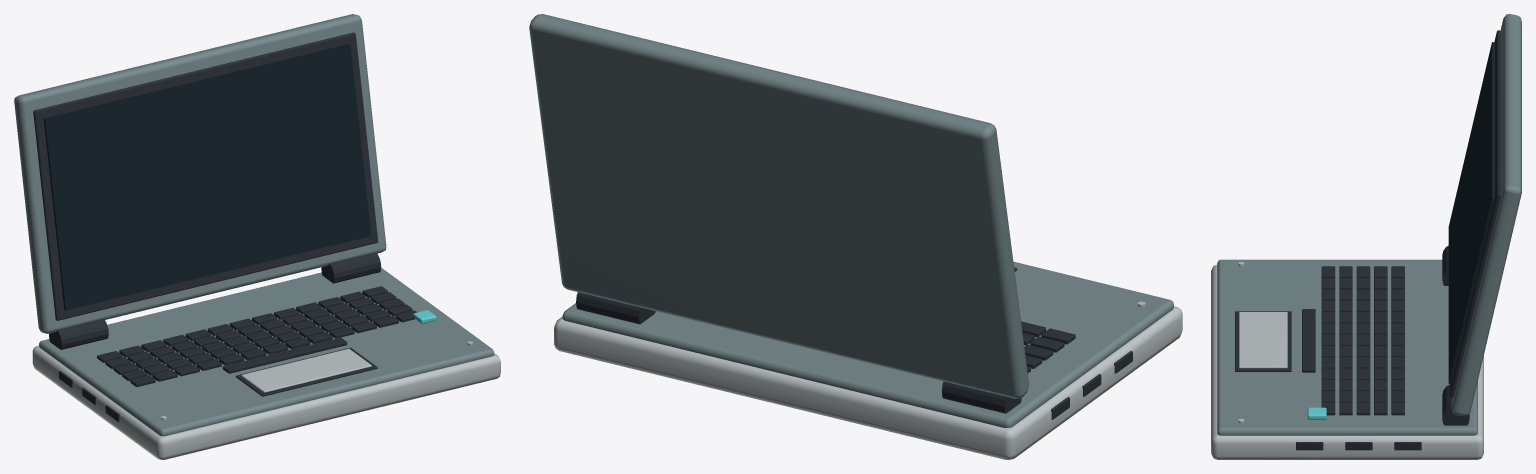
The model's file is HF_FieldNotebook.fbx.
The picture shows the model from 3 angles, left to right: view 1: azimuth 30°, elevation 25°; view 2: azimuth 150°, elevation 25°; view 3: azimuth 270°, elevation 25°; orthographic projection. The views are drawn at different scales.
Parts seen in each view (by area): view 1: Chassis, DisplayGlass; view 2: Chassis; view 3: Chassis, DisplayGlass.
Boxes of the visible parts, x1,y1,x2,y2 form: Chassis: (14, 14, 500, 459); DisplayGlass: (43, 44, 371, 310); Chassis: (529, 14, 1182, 459); Chassis: (1211, 14, 1521, 459); DisplayGlass: (1448, 42, 1494, 384).
Bounding box in the file's own units: 55.3 × 40.02 × 41.01.
